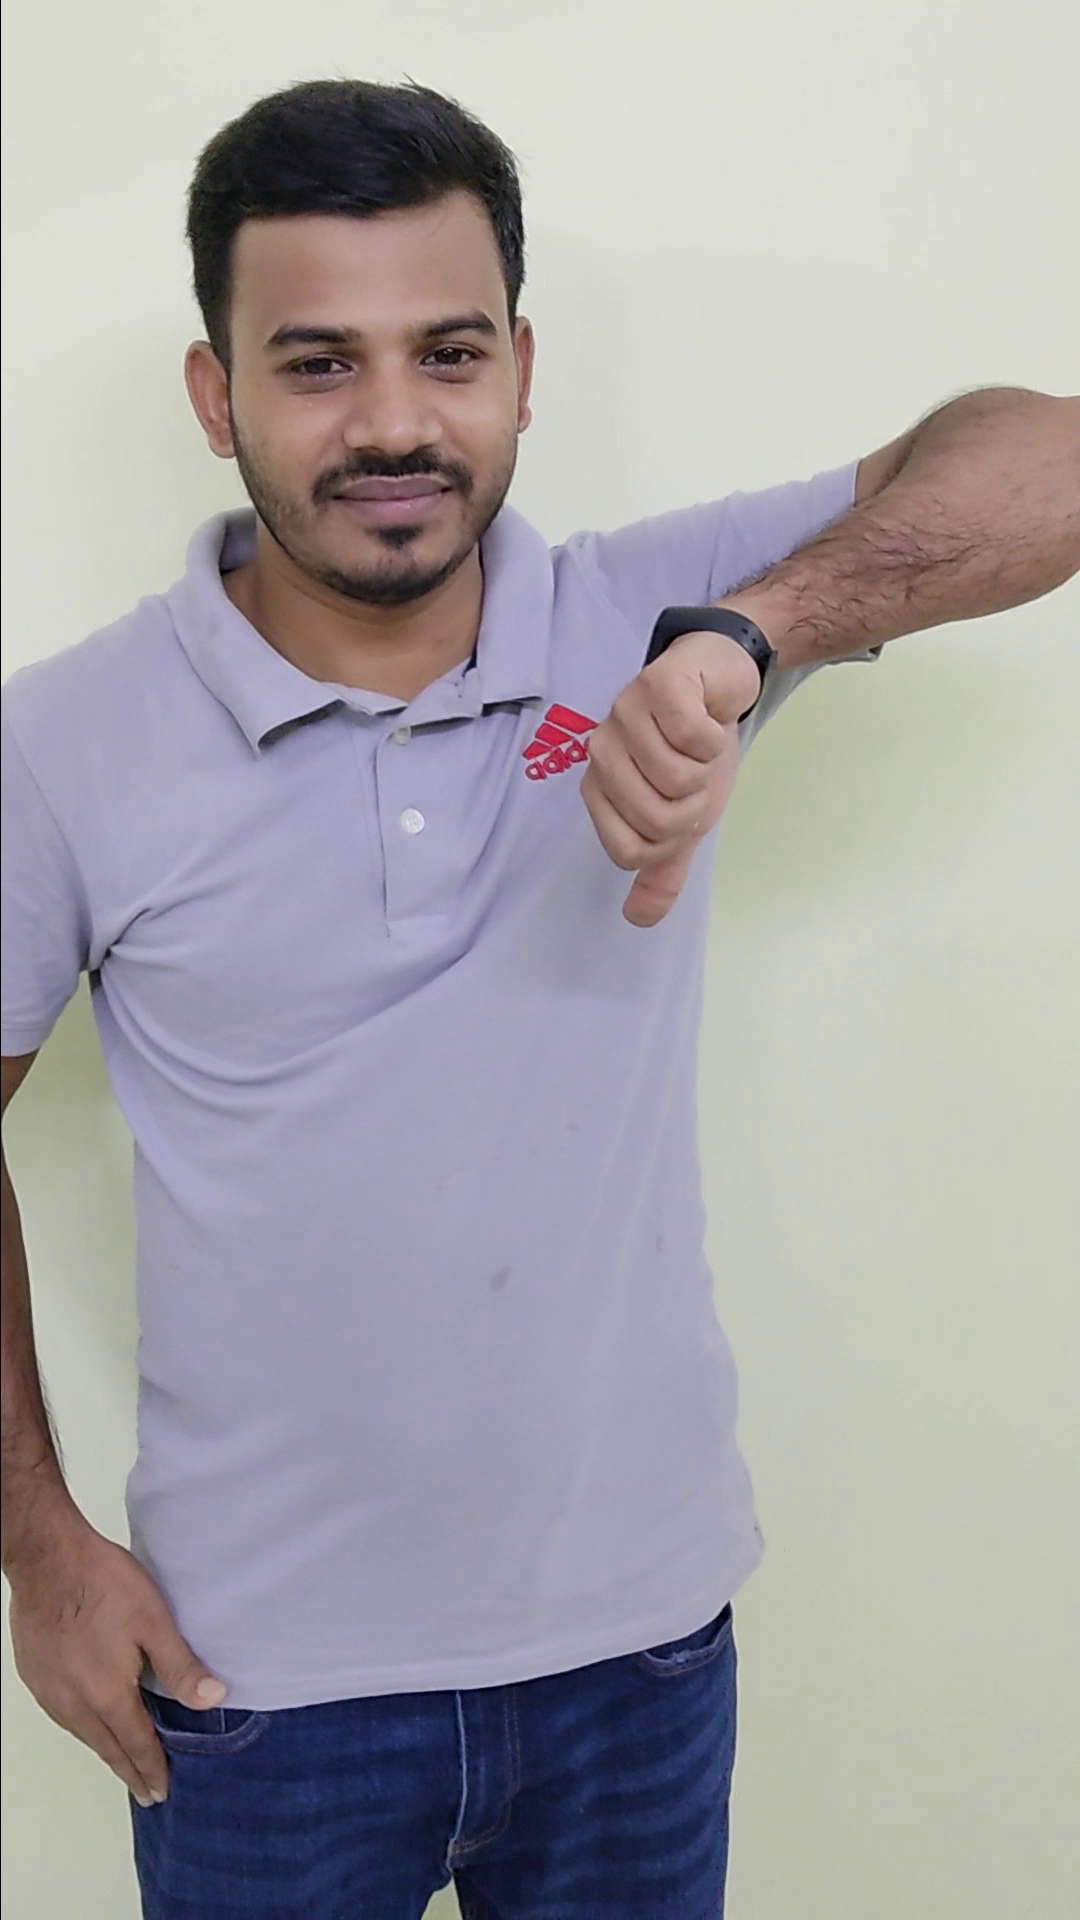Dislike: (562, 567, 790, 942)
None: (0, 1502, 255, 1815)
